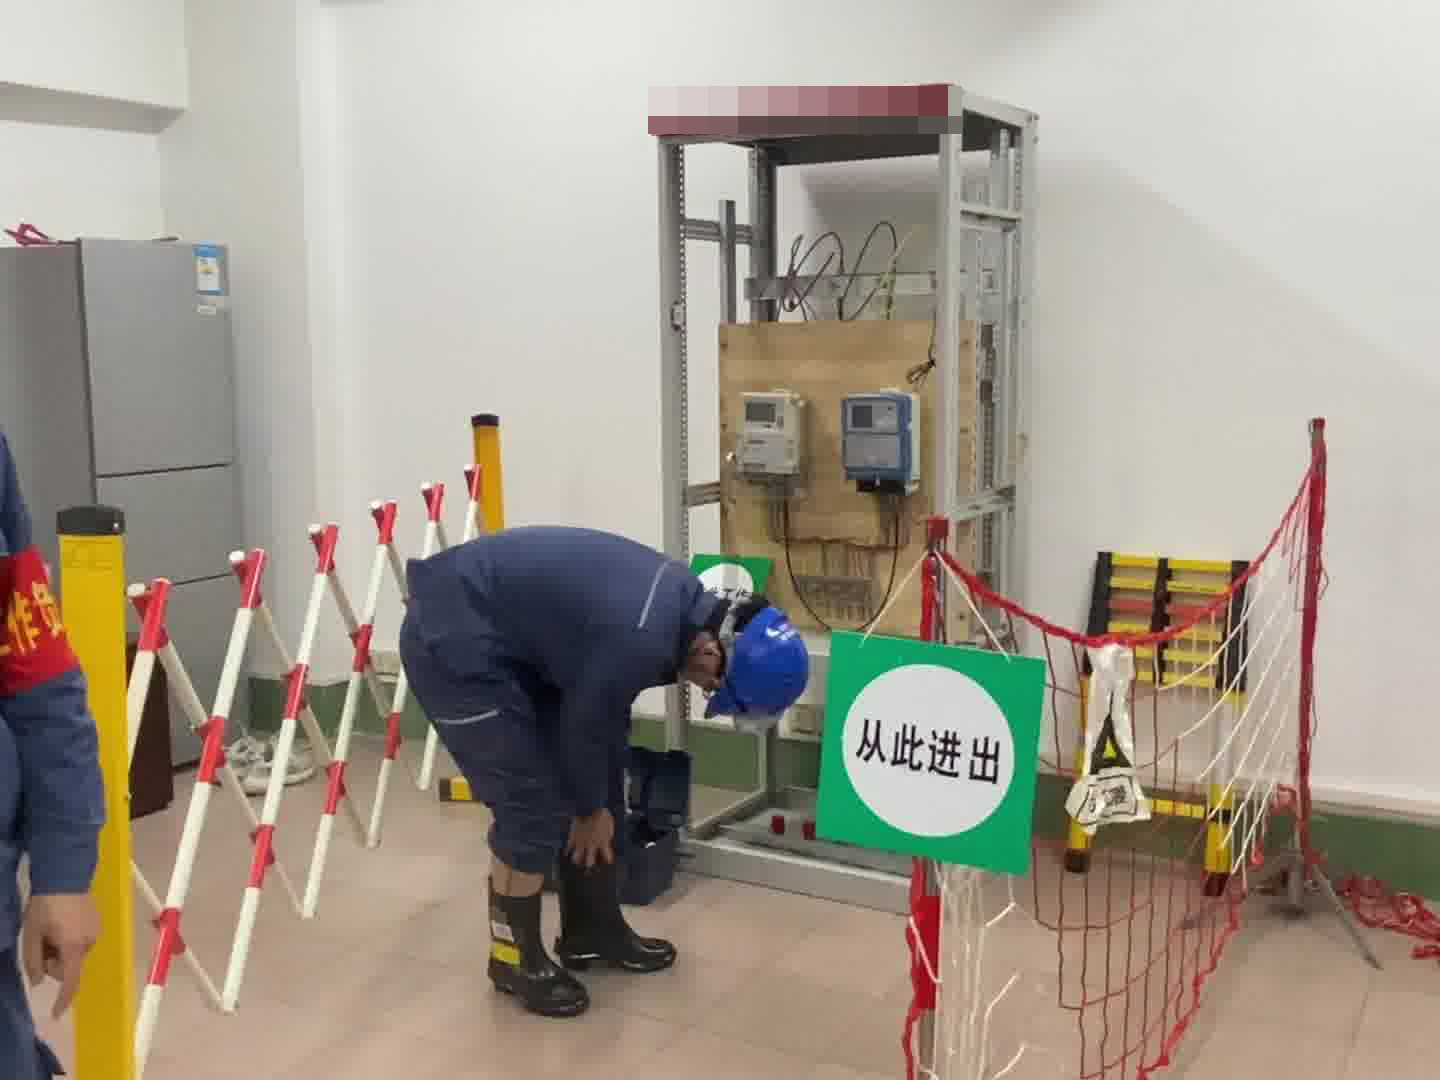badge: (1, 546, 81, 705)
downsuit: (417, 670, 562, 873)
halt: (694, 600, 814, 733)
hand: (19, 893, 100, 1015), (569, 810, 615, 868)
inear: (688, 629, 731, 675)
intosign: (828, 631, 1038, 871)
person: (394, 524, 818, 1004)
shoe: (473, 854, 680, 1024)
upsuit: (1, 323, 105, 1080), (405, 526, 699, 689)
worksign: (689, 551, 776, 607)
wrongbottom: (474, 796, 558, 893)
